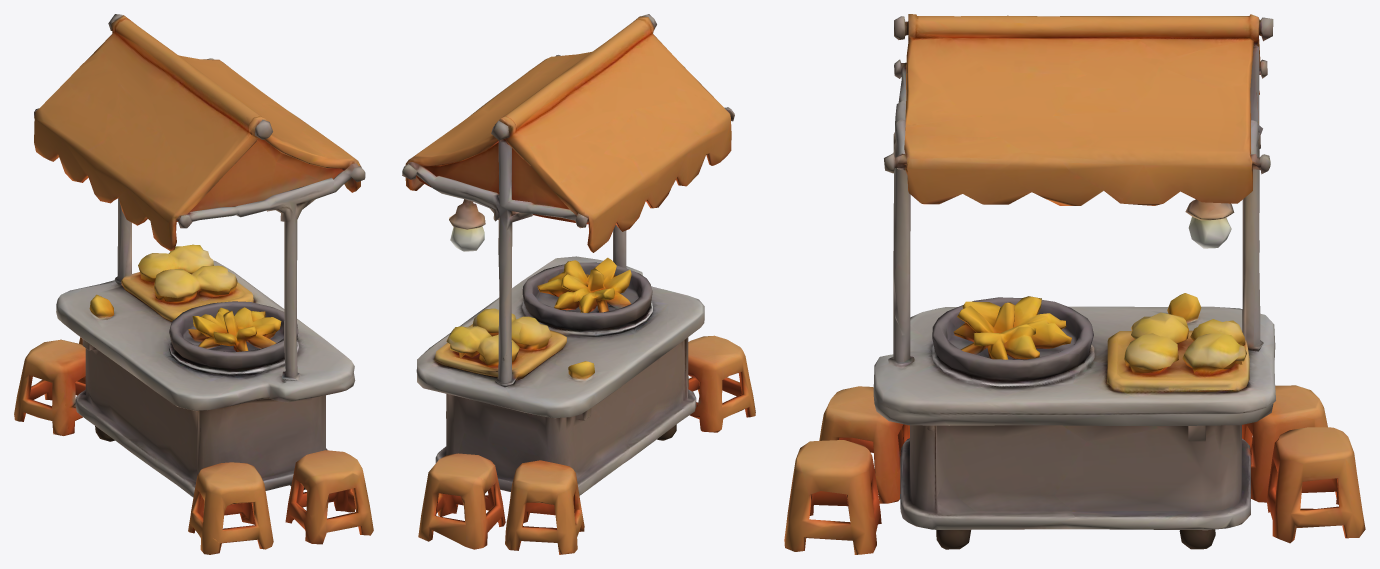
File: cart.glb
3 renders of one model, left to right at view 1: azimuth 30°, elevation 25°; view 2: azimuth 150°, elevation 25°; view 3: azimuth 270°, elevation 25°, orthographic. The views are drawn at different scales.
Visible parts, largest first — view 1: tripo_node_1d0a30f6-fac6-43bb-8427-bb21ecee3045; view 2: tripo_node_1d0a30f6-fac6-43bb-8427-bb21ecee3045; view 3: tripo_node_1d0a30f6-fac6-43bb-8427-bb21ecee3045.
Boxes of the visible parts, x1,y1,x2,y2 form: tripo_node_1d0a30f6-fac6-43bb-8427-bb21ecee3045: (14,14,373,554); tripo_node_1d0a30f6-fac6-43bb-8427-bb21ecee3045: (402,14,755,554); tripo_node_1d0a30f6-fac6-43bb-8427-bb21ecee3045: (784,14,1365,554).
Bounding box in the file's own units: 0.4687 × 0.9437 × 1.
Materials: 1 (1 with a texture image).
